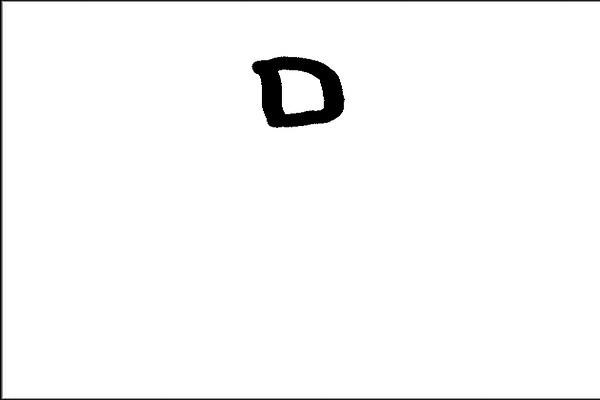D: (247, 53, 348, 135)
